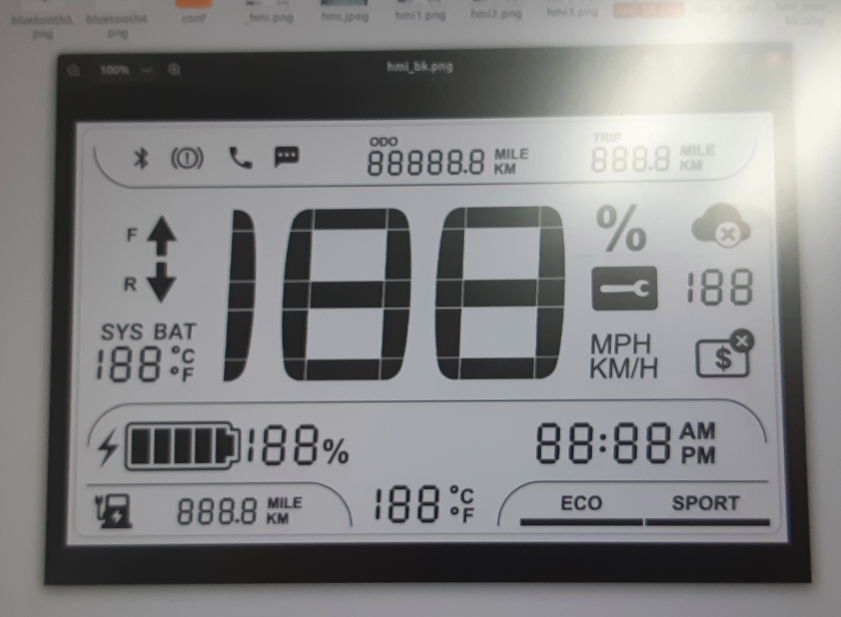bluetooth_on: (130, 143, 155, 173)
braking_on: (167, 141, 207, 173)
calling_on: (224, 142, 257, 171)
connection_lost: (687, 198, 754, 252)
error_code: (586, 263, 660, 314)
low_battery: (91, 489, 136, 532)
sms_on: (270, 143, 303, 171)
vin_id: (691, 325, 758, 381)
